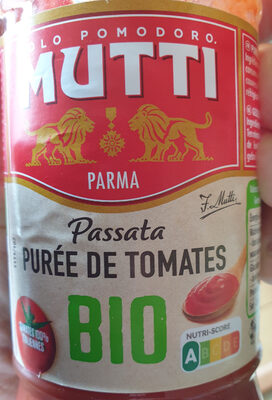Passierte Tomaten: (14, 20, 258, 380)
